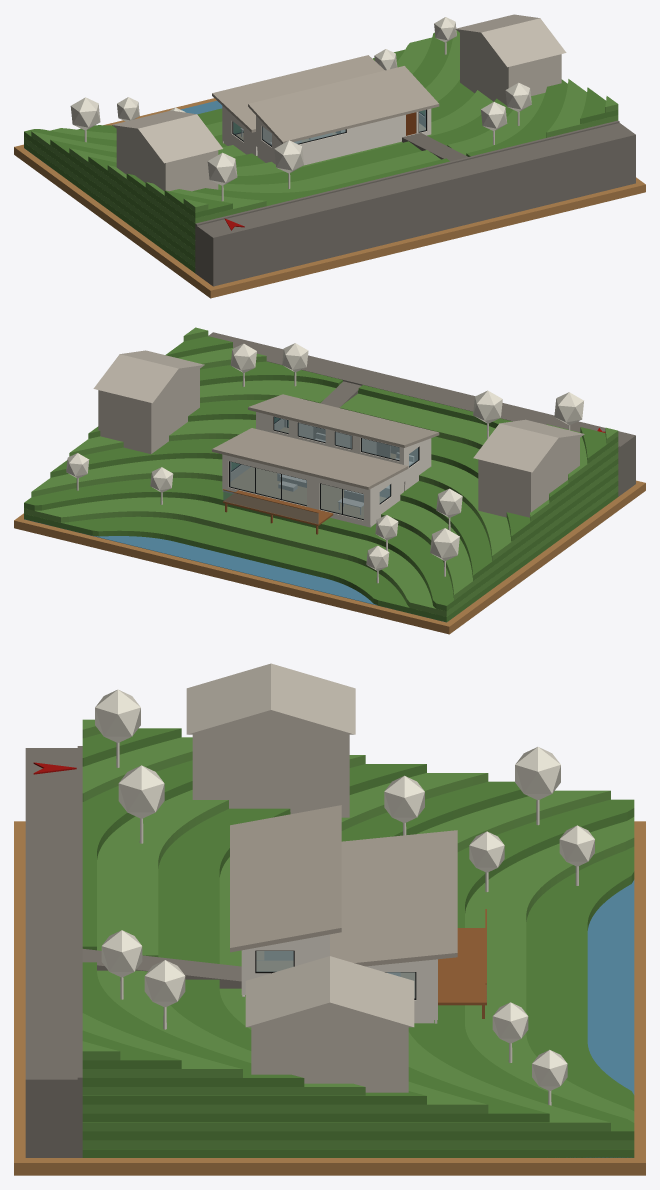
The model's file is house.obj.
3 views of the same model, one above another, from view 1: azimuth 30°, elevation 25°; view 2: azimuth 150°, elevation 25°; view 3: azimuth 270°, elevation 25° (orthographic). The views are drawn at different scales.
Visible parts, largest first — view 1: STREET, TERRAIN_A, TERRAIN_B, BASE, ROOF_UPPER, NEIGHBOUR_E, NEIGHBOUR_W, TREE_CANOPIES, ROOF_LOWER, WALLS_UPPER, WALLS_LOWER, PATH (+1 smaller); view 2: TERRAIN_A, TERRAIN_B, NEIGHBOUR_E, BASE, NEIGHBOUR_W, TREE_CANOPIES, STREET, ROOF_LOWER, GLASS_LOWER, ROOF_UPPER, WATER, WALLS_LOWER (+9 smaller); view 3: TERRAIN_A, TERRAIN_B, STREET, NEIGHBOUR_W, BASE, NEIGHBOUR_E, TREE_CANOPIES, ROOF_LOWER, ROOF_UPPER, WATER, DECK, PATH (+3 smaller).
Part boxes in pixels (box(x1,y1,x2,y2)): STREET: box(195, 120, 635, 286); TERRAIN_A: box(24, 32, 618, 272); TERRAIN_B: box(24, 30, 618, 267); BASE: box(14, 98, 645, 298); ROOF_UPPER: box(248, 66, 439, 143); NEIGHBOUR_E: box(455, 14, 566, 105); NEIGHBOUR_W: box(112, 110, 222, 191); TREE_CANOPIES: box(70, 17, 531, 201); ROOF_LOWER: box(212, 55, 384, 132); WALLS_UPPER: box(256, 108, 431, 164); WALLS_LOWER: box(222, 106, 257, 155); PATH: box(402, 133, 467, 161); TERRAIN_A: box(24, 336, 618, 622); TERRAIN_B: box(24, 327, 618, 616); NEIGHBOUR_E: box(93, 350, 204, 453); BASE: box(14, 480, 645, 634); NEIGHBOUR_W: box(473, 419, 584, 517); TREE_CANOPIES: box(66, 343, 583, 583); STREET: box(208, 332, 635, 496); ROOF_LOWER: box(212, 428, 408, 489); GLASS_LOWER: box(223, 461, 390, 523); ROOF_UPPER: box(248, 394, 439, 447); WATER: box(24, 519, 443, 621); WALLS_LOWER: box(222, 454, 403, 525); TERRAIN_A: box(82, 728, 634, 1157); TERRAIN_B: box(82, 719, 634, 1148); STREET: box(25, 746, 82, 1157); NEIGHBOUR_W: box(186, 663, 355, 817); BASE: box(14, 821, 645, 1175); NEIGHBOUR_E: box(245, 956, 414, 1092); TREE_CANOPIES: box(95, 689, 594, 1105); ROOF_LOWER: box(330, 830, 457, 966); ROOF_UPPER: box(230, 805, 341, 952); WATER: box(570, 880, 634, 1157); DECK: box(438, 909, 486, 1018); PATH: box(82, 949, 241, 988).
Bounding box in the file's own units: 41.2 × 10.07 × 32.2.
